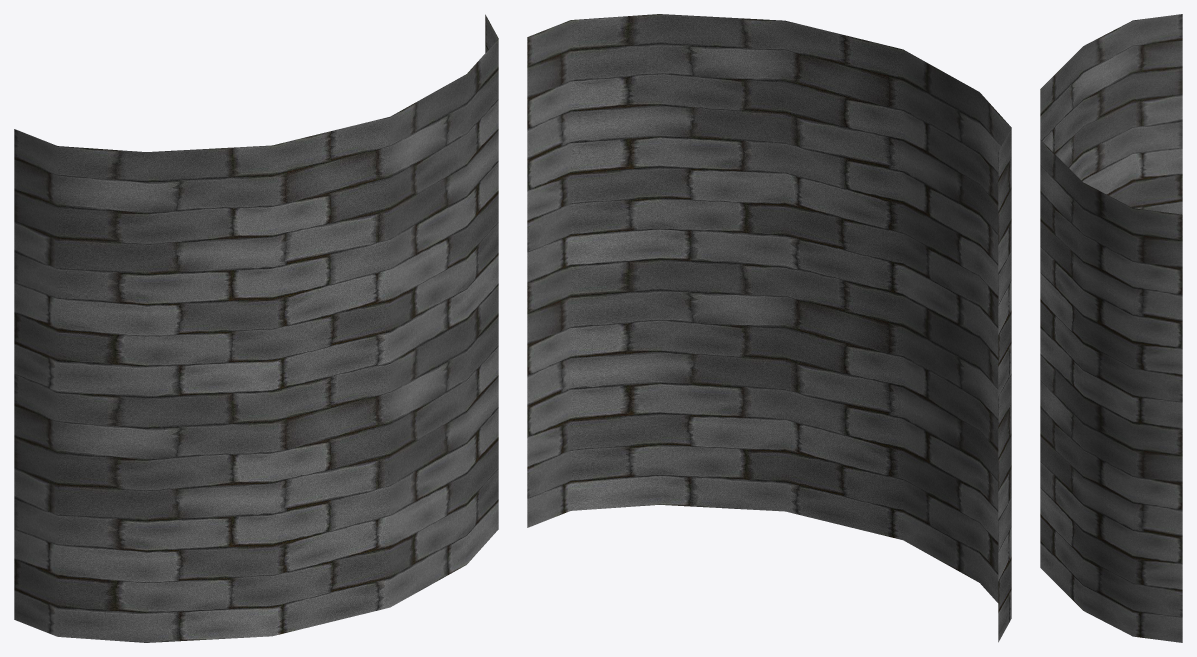
File: GenCurveWallConvex.fbx
3 renders of one model, left to right at view 1: azimuth 30°, elevation 25°; view 2: azimuth 150°, elevation 25°; view 3: azimuth 270°, elevation 25°, orthographic. The views are drawn at different scales.
Visible parts, largest first — view 1: GenHouse_Mod_CurveWallConvex; view 2: GenHouse_Mod_CurveWallConvex; view 3: GenHouse_Mod_CurveWallConvex.
Boxes of the visible parts, left/top/right/bottom form: GenHouse_Mod_CurveWallConvex: left=14, top=14, right=498, bottom=642; GenHouse_Mod_CurveWallConvex: left=527, top=14, right=1011, bottom=642; GenHouse_Mod_CurveWallConvex: left=1040, top=14, right=1182, bottom=642.
Size of the model in its own units: 5.27 by 5.25 by 1.58.
Materials: 1 (1 with a texture image).
